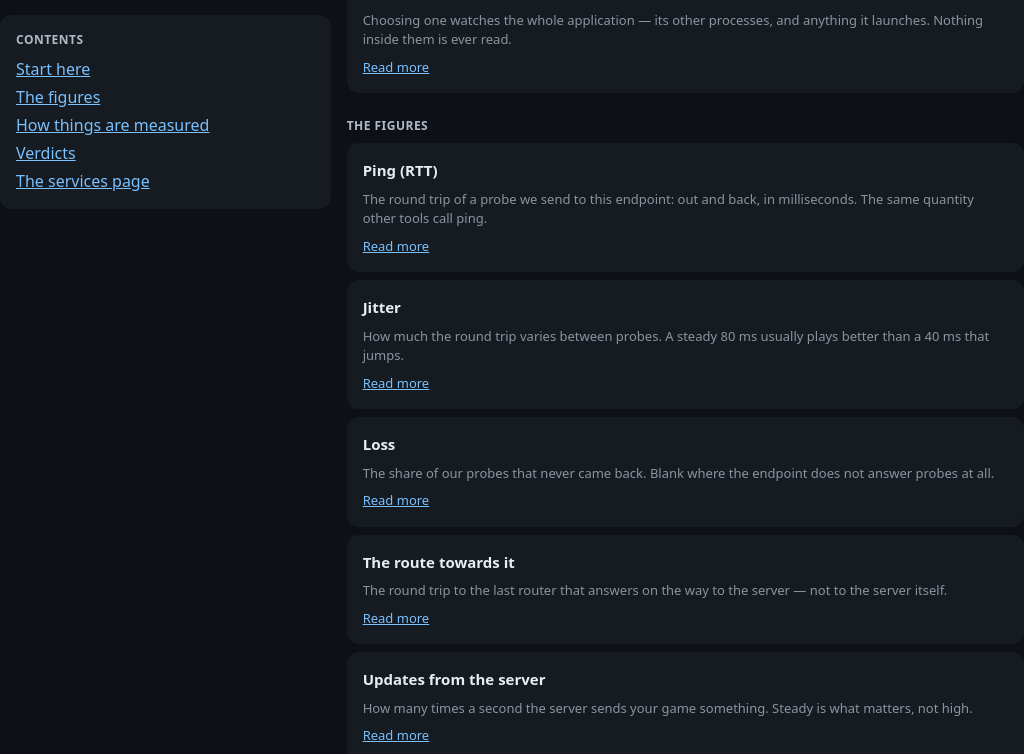
Test: HelpPage › shows exactly the body that was asked for
(page scrolled)
Click the 3rd button "Read more". click: (396, 383)
box: [363,374,429,393]
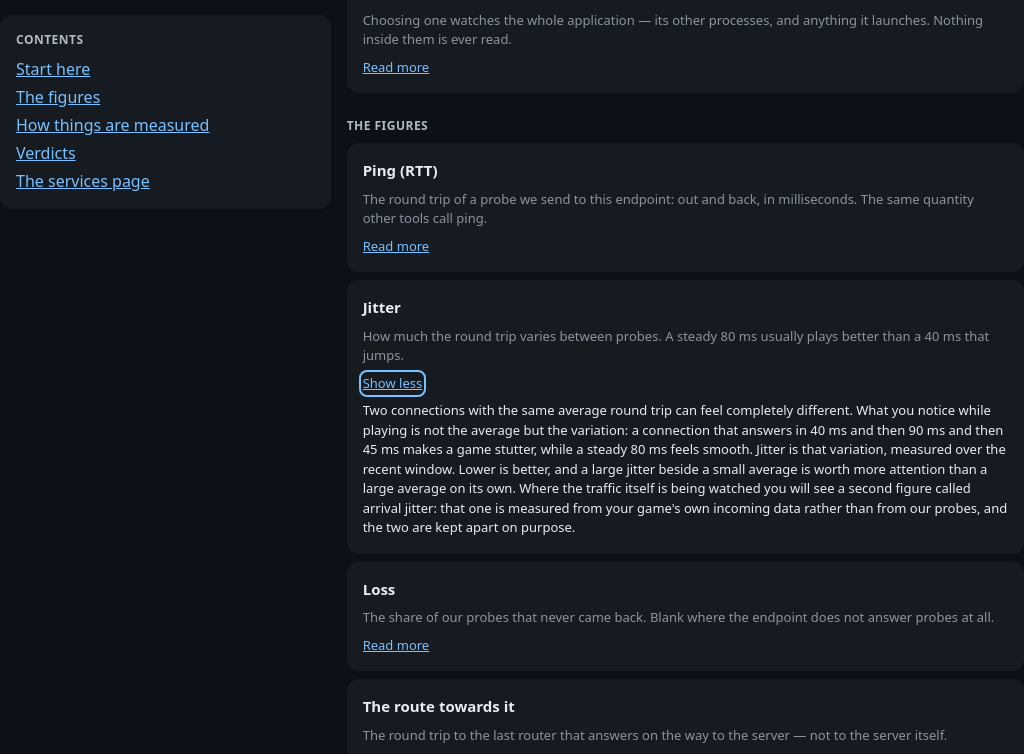
Now the number of elements with class "nm-help-page__body" is 1, box [363,401,1008,538]
